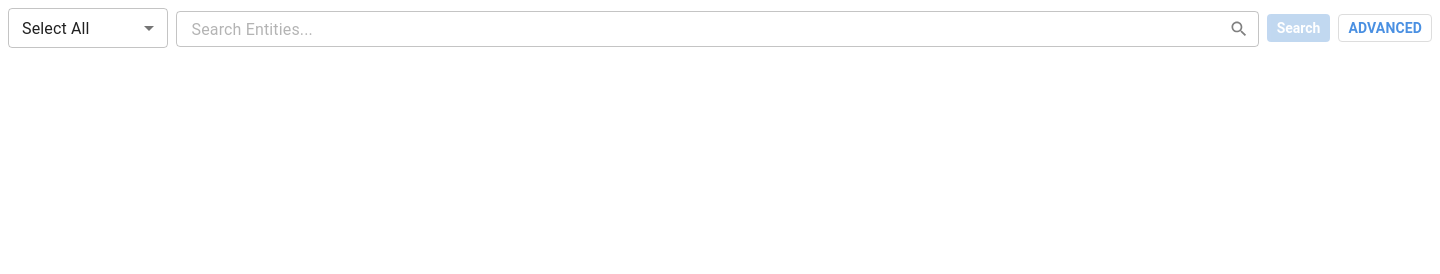
Test case: QuickSearch › Component Rendering › updates scope when user picks Entity in dropdown
Expected: the dropdown with placeholder "Search Entities..." is shown, [186, 12, 1221, 46]
Click the dropdown labelled "Select All" at (56, 28), box [22, 18, 90, 38]
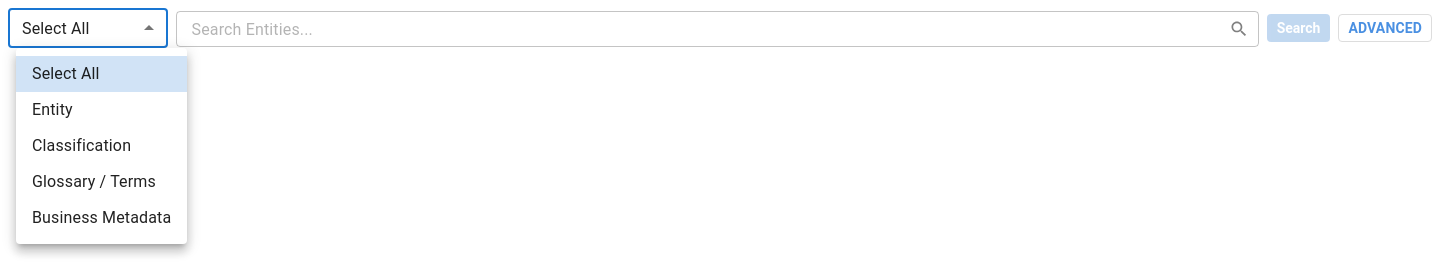
Click the option "Entity" at (52, 110), box [32, 100, 73, 119]
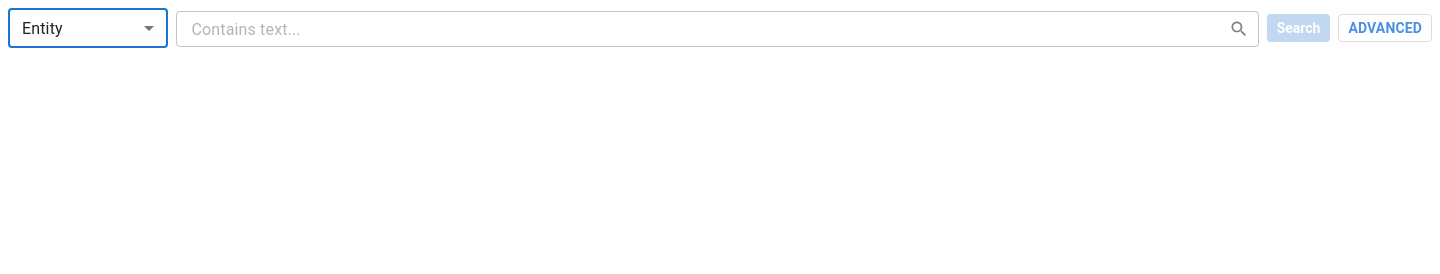
Expected: the dropdown with placeholder "Contains text..." is shown, [186, 12, 1221, 46]
